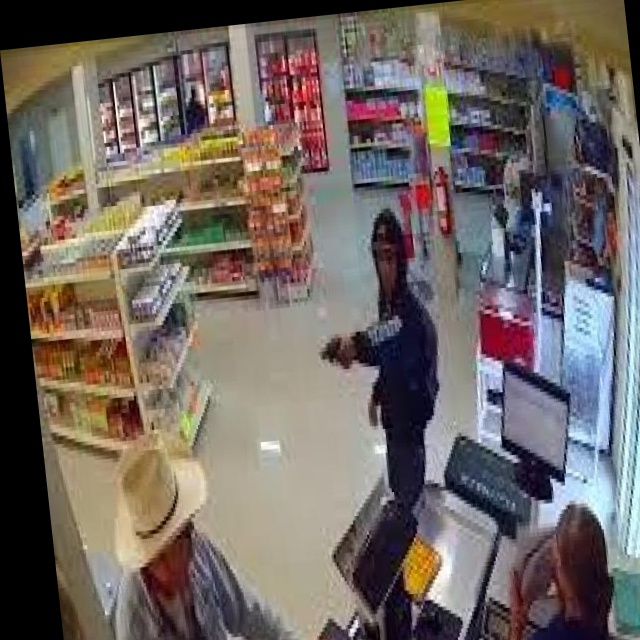gun: (309, 325, 356, 376)
